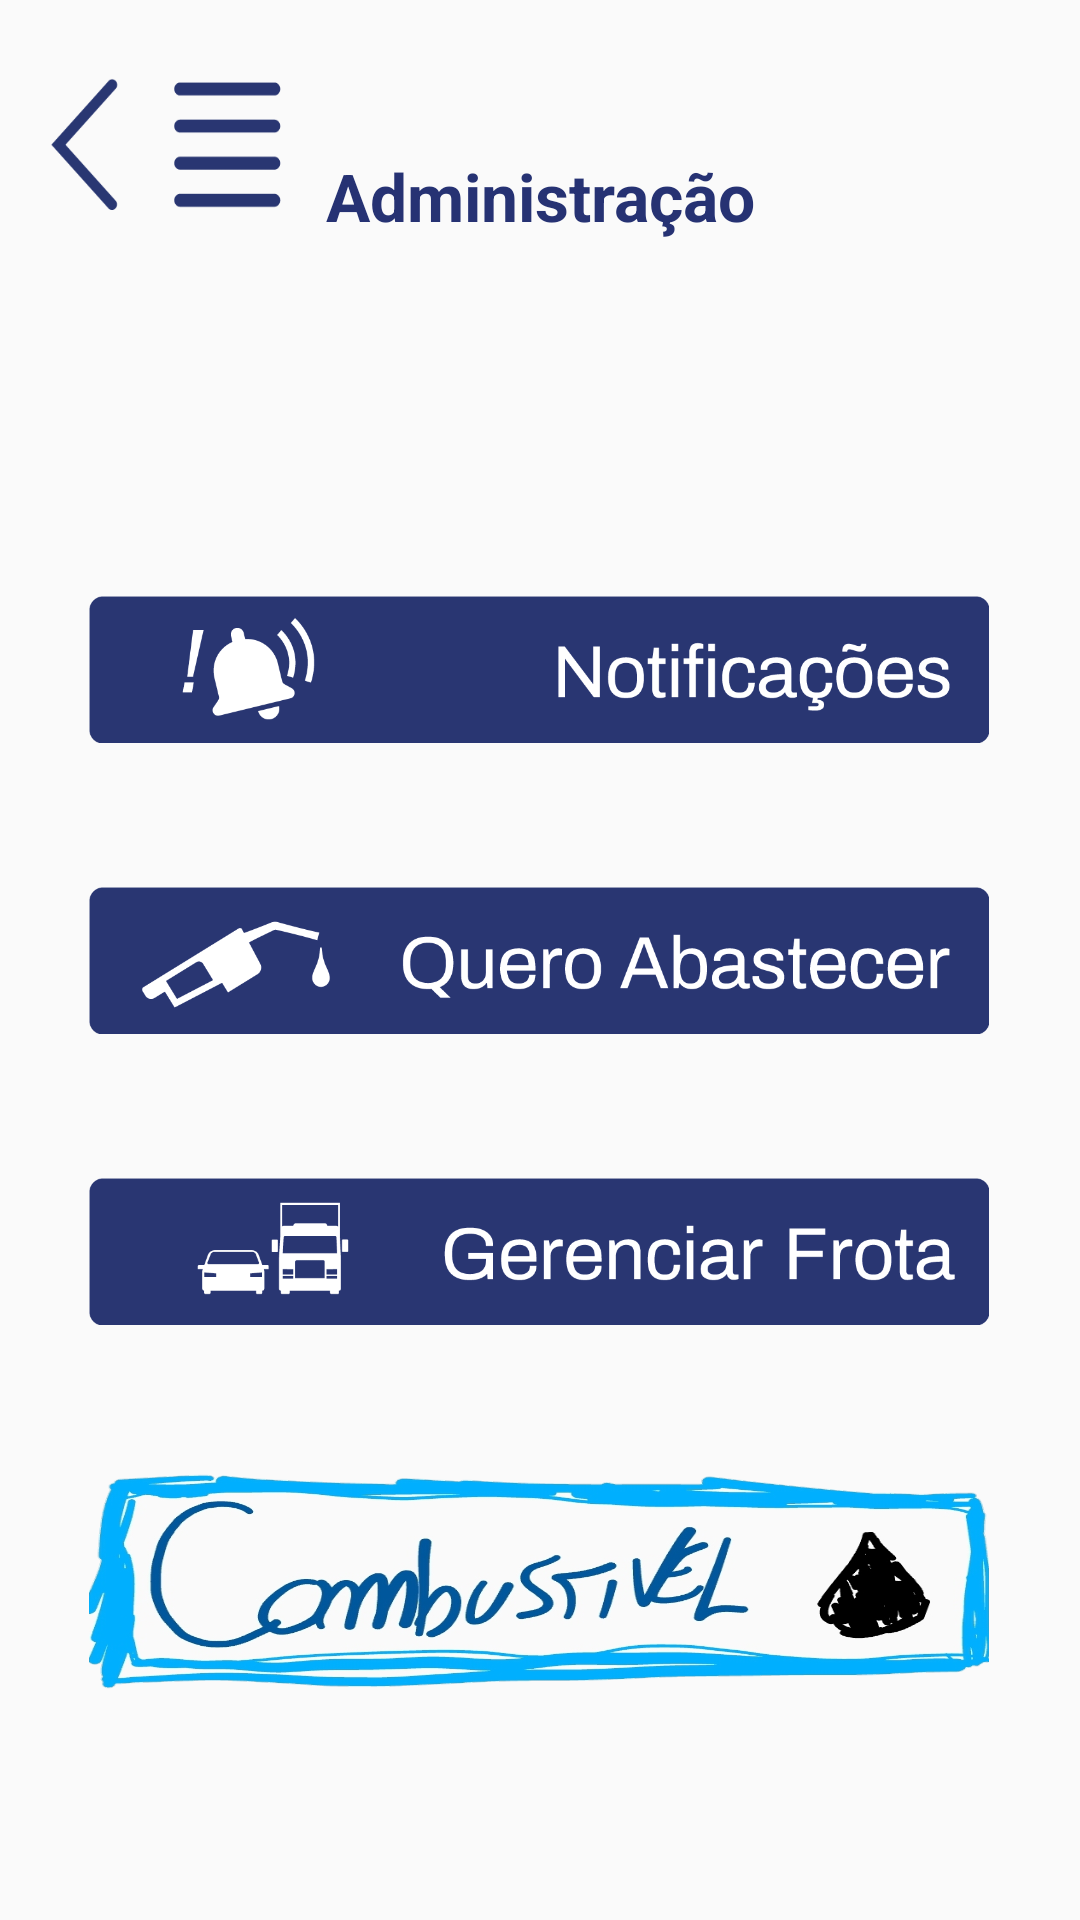

Icon click points for this 1080x1920 phone screenshot, format (x,y):
voltar menu: (166,144)
